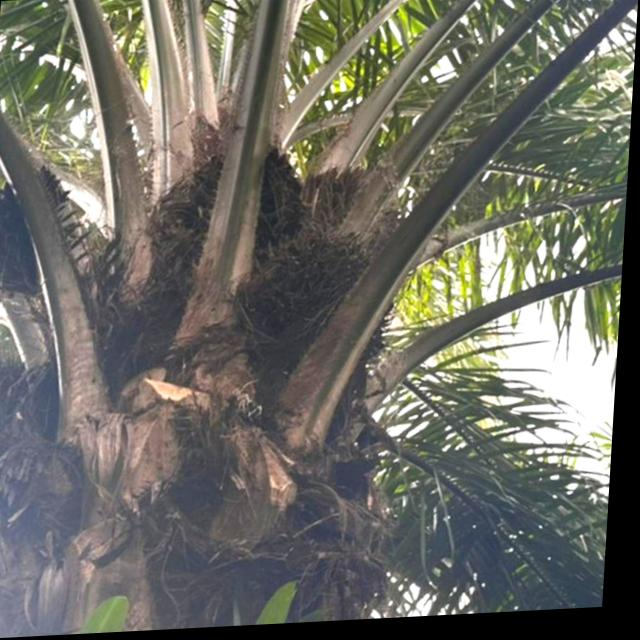unripe: (230, 221, 412, 418), (142, 134, 321, 314)
